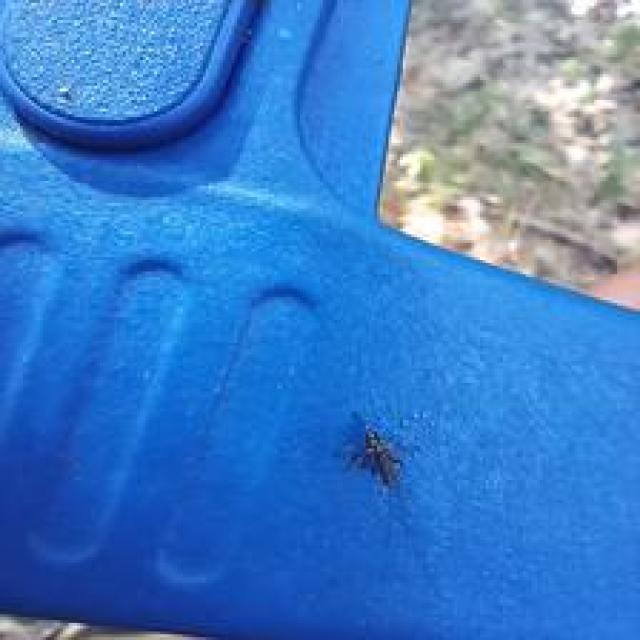Aedes albopictus: (344, 424, 404, 490)
